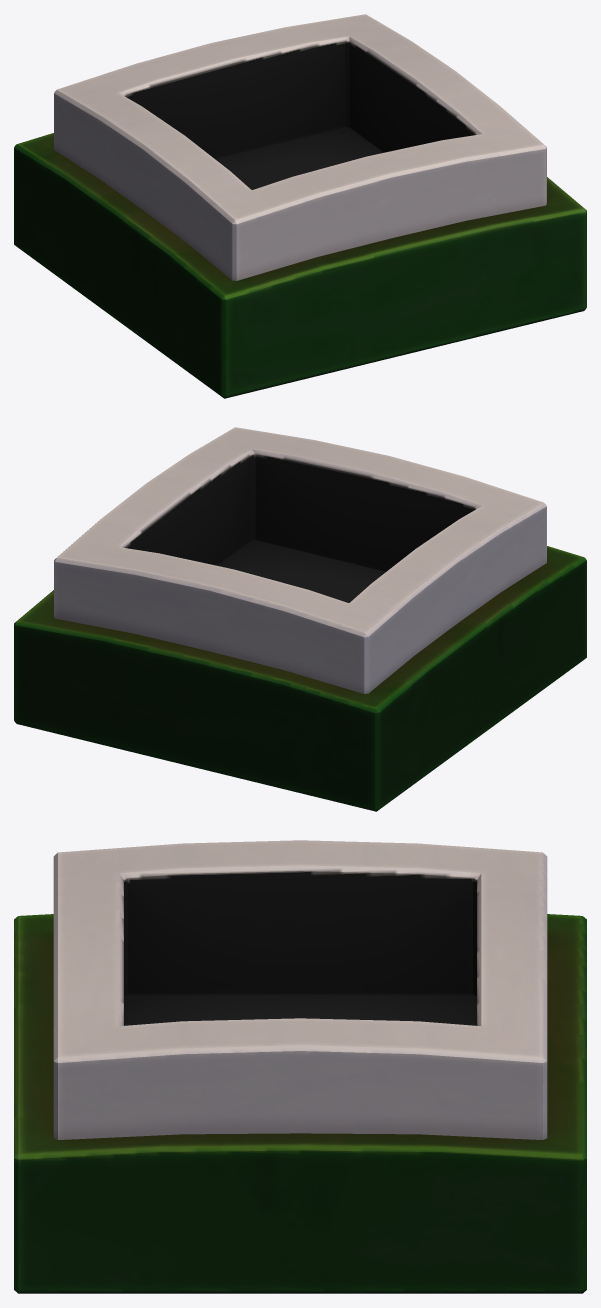
The model's file is trash.gltf.
3 views of the same model, one above another, from view 1: azimuth 30°, elevation 25°; view 2: azimuth 150°, elevation 25°; view 3: azimuth 270°, elevation 25° (orthographic). The views are drawn at different scales.
Parts seen in each view (by area): view 1: 2; view 2: 2; view 3: 2.
Part boxes in pixels (x1=…): 2: x1=14, y1=14, x2=586, y2=398; 2: x1=14, y1=427, x2=586, y2=811; 2: x1=14, y1=840, x2=586, y2=1293.
Bounding box in the file's own units: 2 × 0.8957 × 2.
Materials: 1 (1 with a texture image).
